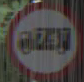Heavy Vehicles: (8, 2, 77, 66)
